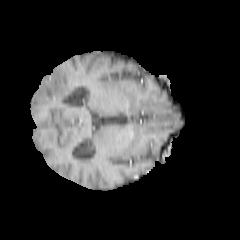glioma: (40, 67, 75, 103)
